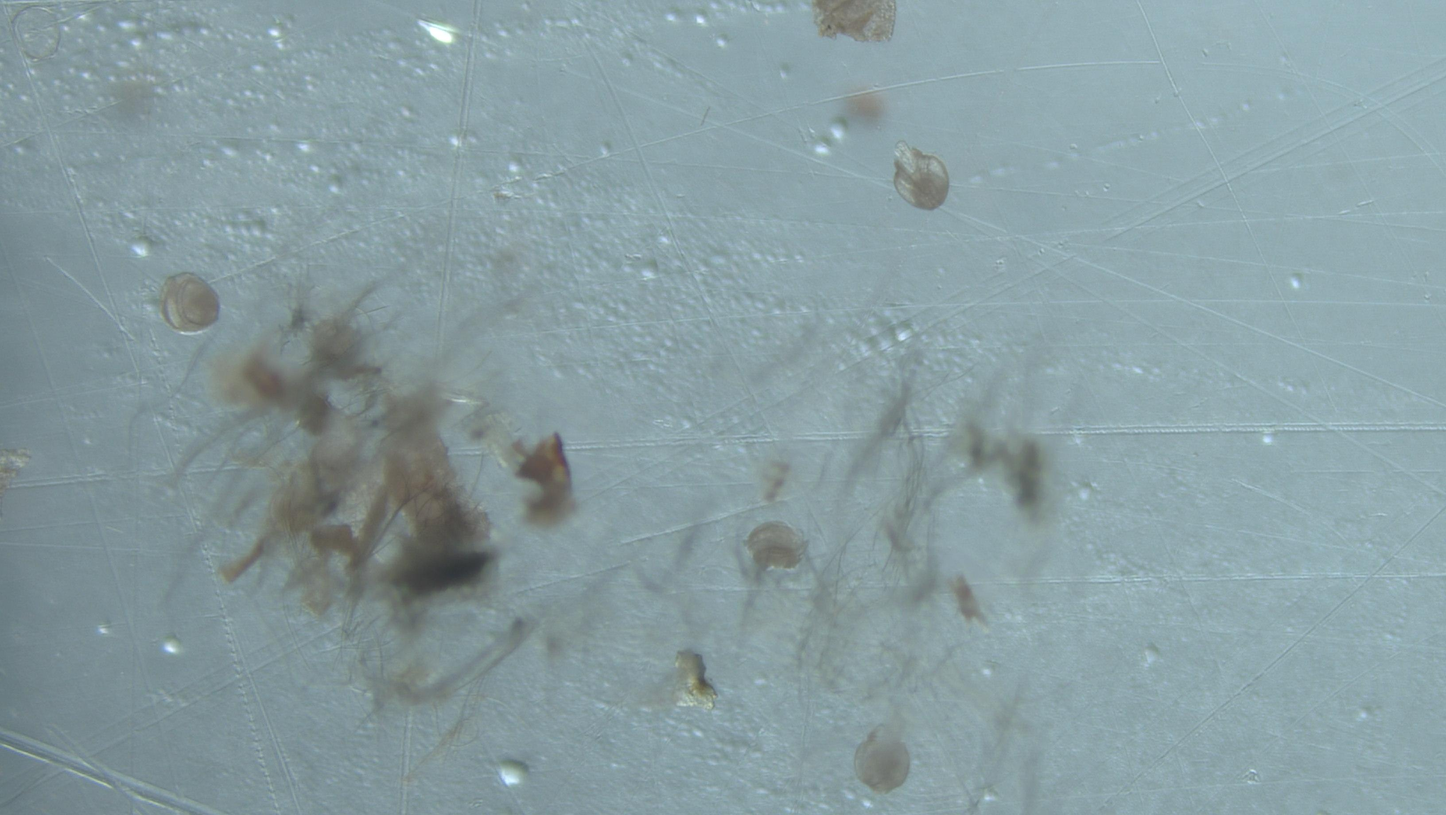dead: (15, 7, 61, 60)
live: (854, 721, 911, 794), (893, 141, 950, 211), (159, 272, 220, 334)
